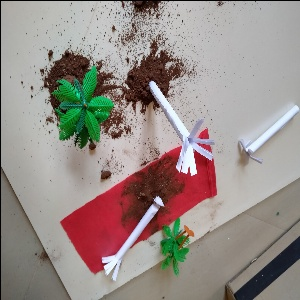plant: (45, 56, 112, 155), (153, 218, 202, 278)
weed: (143, 71, 214, 176), (88, 183, 161, 281), (236, 96, 300, 182)
